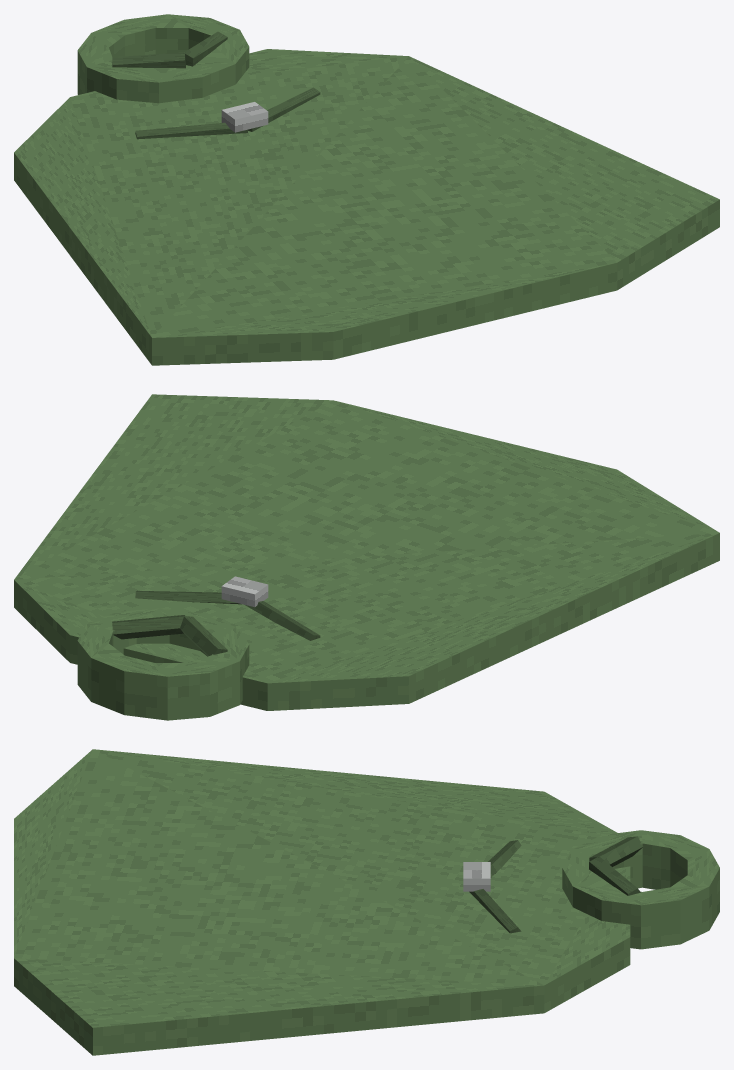
File: cloak.glb
3 renders of one model, top to bottom at view 1: azimuth 30°, elevation 25°; view 2: azimuth 150°, elevation 25°; view 3: azimuth 270°, elevation 25°, orthographic.
Visible parts, largest first — view 1: block_draped cape, block_folded hood, block_cloak clasp, block_neck tie 0, block_hood facing 0, block_hood facing 1, block_neck tie 1; view 2: block_draped cape, block_folded hood, block_hood facing 1, block_cloak clasp, block_neck tie 1, block_hood facing 0, block_neck tie 0; view 3: block_draped cape, block_folded hood, block_cloak clasp, block_hood facing 1, block_hood facing 0, block_neck tie 1, block_neck tie 0.
Part boxes in pixels (bbox=[...]): block_draped cape: bbox=[14, 49, 719, 365]; block_folded hood: bbox=[77, 14, 249, 103]; block_cloak clasp: bbox=[221, 102, 268, 132]; block_neck tie 0: bbox=[135, 122, 247, 139]; block_hood facing 0: bbox=[112, 52, 185, 68]; block_hood facing 1: bbox=[183, 31, 227, 66]; block_neck tie 1: bbox=[248, 87, 320, 131]; block_draped cape: bbox=[14, 394, 719, 710]; block_folded hood: bbox=[77, 608, 249, 720]; block_hood facing 1: bbox=[112, 615, 184, 639]; block_cloak clasp: bbox=[221, 576, 268, 607]; block_neck tie 1: bbox=[135, 590, 241, 604]; block_hood facing 0: bbox=[180, 616, 227, 656]; block_neck tie 0: bbox=[245, 601, 320, 640]; block_draped cape: bbox=[14, 749, 630, 1055]; block_folded hood: bbox=[562, 830, 719, 949]; block_cloak clasp: bbox=[463, 862, 490, 891]; block_hood facing 1: bbox=[589, 856, 640, 895]; block_hood facing 0: bbox=[589, 836, 642, 866]; block_neck tie 1: bbox=[469, 889, 521, 933]; block_neck tie 0: bbox=[488, 840, 521, 877].
Size of the model in its own units: 0.6399 by 0.0642 by 0.6851.
Materials: 1 (1 with a texture image).
